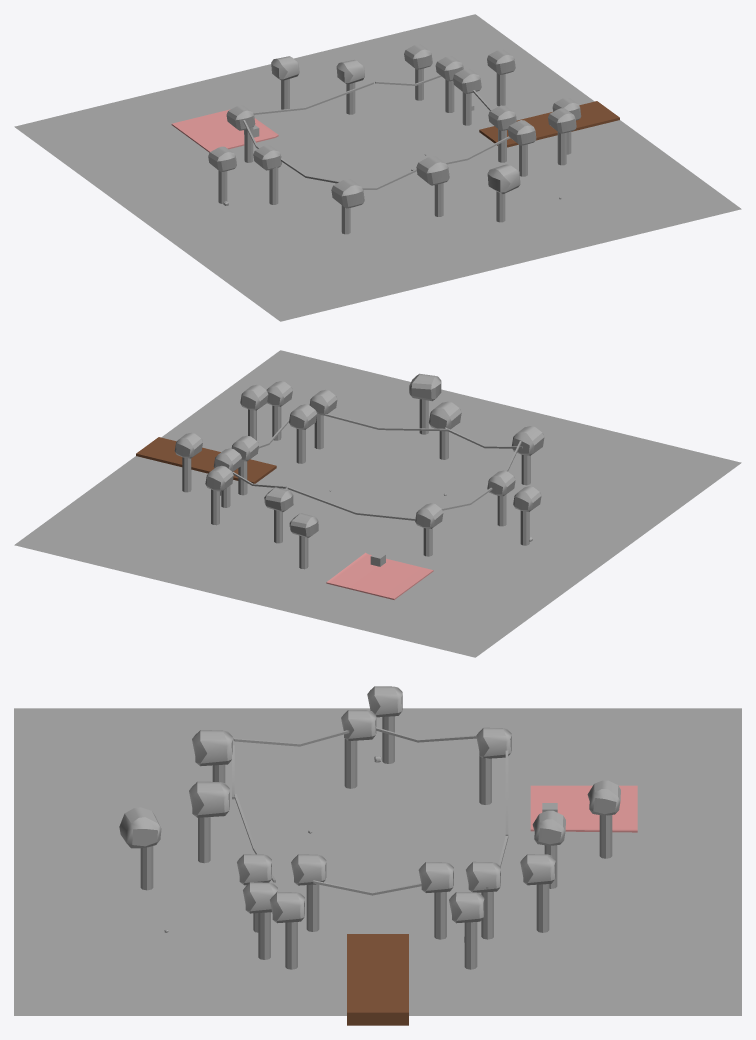
The model's file is SM_ground_blockout.fbx.
3 views of the same model, one above another, from view 1: azimuth 30°, elevation 25°; view 2: azimuth 150°, elevation 25°; view 3: azimuth 270°, elevation 25° (orthographic). The views are drawn at different scales.
Parts seen in each view (by area): view 1: floor, picnic, pCube16, rock13, rock2, rock3, rock19, rock9, rock16, rock6, rock12, rock18 (+5 smaller); view 2: floor, picnic, pCube16, rock13, rock3, rock2, rock9, rock19, rock18, rock6, rock12, rock15 (+5 smaller); view 3: floor, pCube16, picnic, rock13, rock3, rock2, rock12, rock9, rock18, rock19, rock15, rock5 (+19 smaller).
Boxes of the visible parts, <box> form: floor: <box>14,14,741,321</box>; picnic: <box>171,109,278,152</box>; pCube16: <box>479,101,619,147</box>; rock13: <box>487,164,520,193</box>; rock2: <box>331,179,364,208</box>; rock3: <box>416,156,449,185</box>; rock19: <box>271,56,299,80</box>; rock9: <box>336,60,364,84</box>; rock16: <box>548,108,576,133</box>; rock6: <box>208,146,236,171</box>; rock12: <box>487,49,515,74</box>; rock18: <box>404,44,432,69</box>; floor: <box>14,350,741,657</box>; picnic: <box>326,552,433,599</box>; pCube16: <box>136,437,276,483</box>; rock13: <box>409,373,441,401</box>; rock3: <box>429,401,461,429</box>; rock2: <box>512,426,544,455</box>; rock9: <box>264,487,293,512</box>; rock19: <box>289,513,318,537</box>; rock18: <box>205,465,233,491</box>; rock6: <box>513,486,541,511</box>; rock12: <box>174,432,202,458</box>; rock15: <box>240,384,268,410</box>; floor: <box>14,708,741,1015</box>; pCube16: <box>347,934,408,1025</box>; picnic: <box>530,785,637,832</box>; rock13: <box>119,807,161,848</box>; rock3: <box>189,781,229,817</box>; rock2: <box>192,730,232,766</box>; rock12: <box>449,892,484,923</box>; rock9: <box>532,810,565,845</box>; rock18: <box>520,854,555,885</box>; rock19: <box>587,780,620,815</box>; rock15: <box>269,892,304,923</box>; rock5: <box>418,862,453,892</box>.
Bounding box in the file's own units: 50 × 6.45 × 50.
